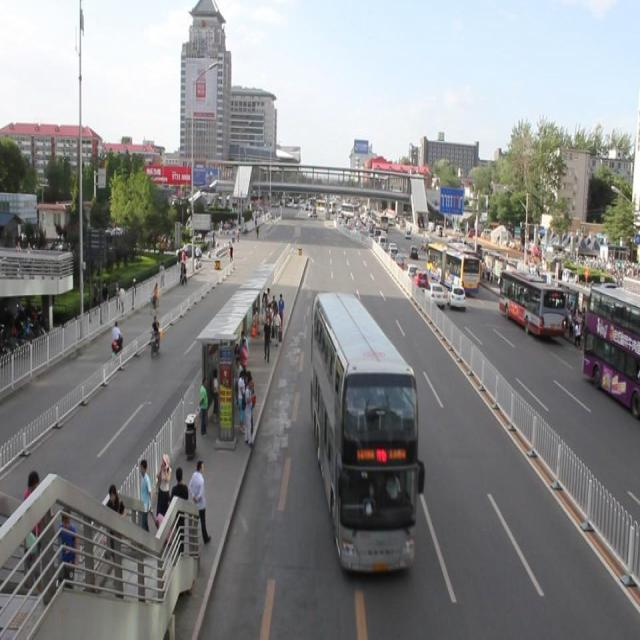BigCar: (304, 266, 432, 592), (418, 206, 489, 330), (583, 271, 640, 422), (488, 261, 568, 364)
